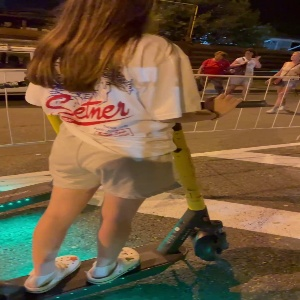human on a scooter: (1, 1, 269, 300)
